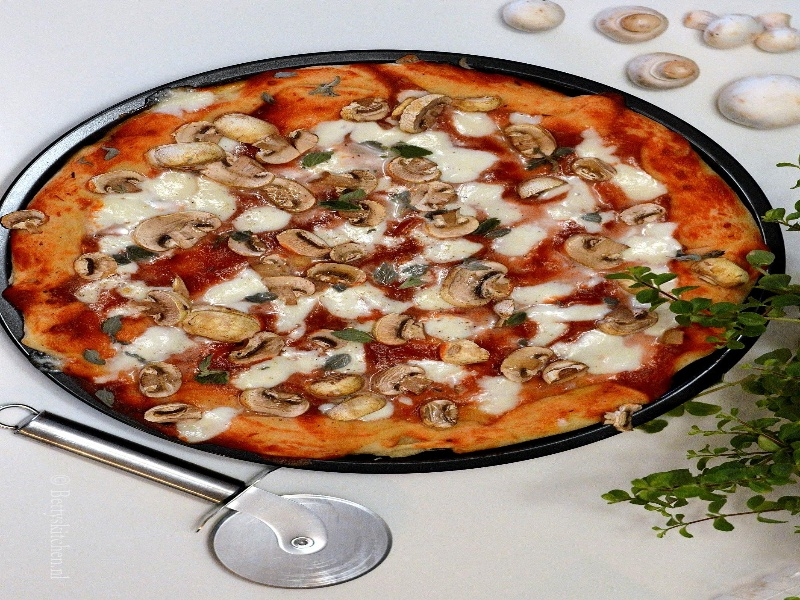champignon: (130, 206, 222, 255), (440, 256, 523, 309), (133, 282, 194, 338), (244, 127, 324, 168), (562, 228, 630, 275), (498, 119, 560, 167), (240, 382, 317, 420), (498, 340, 555, 391), (200, 156, 276, 192), (370, 361, 432, 401), (379, 154, 448, 189), (274, 224, 334, 261), (424, 207, 486, 242), (133, 361, 189, 399), (83, 169, 147, 200)
